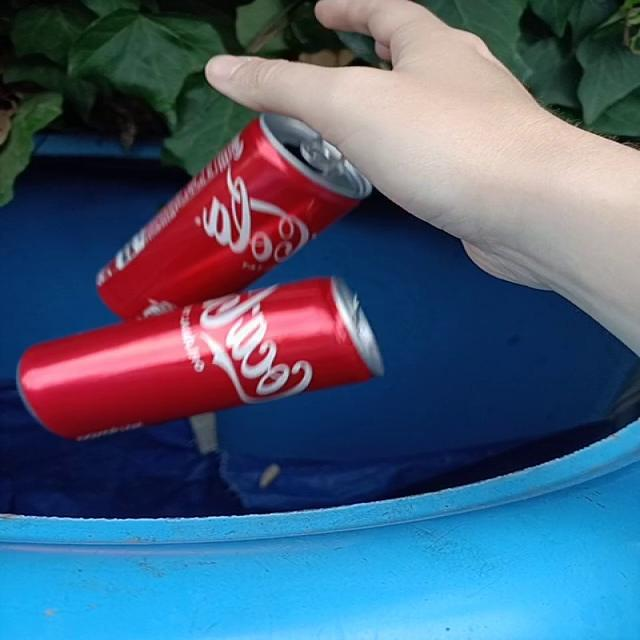bin: (0, 135, 638, 640)
metal: (17, 113, 383, 440)
